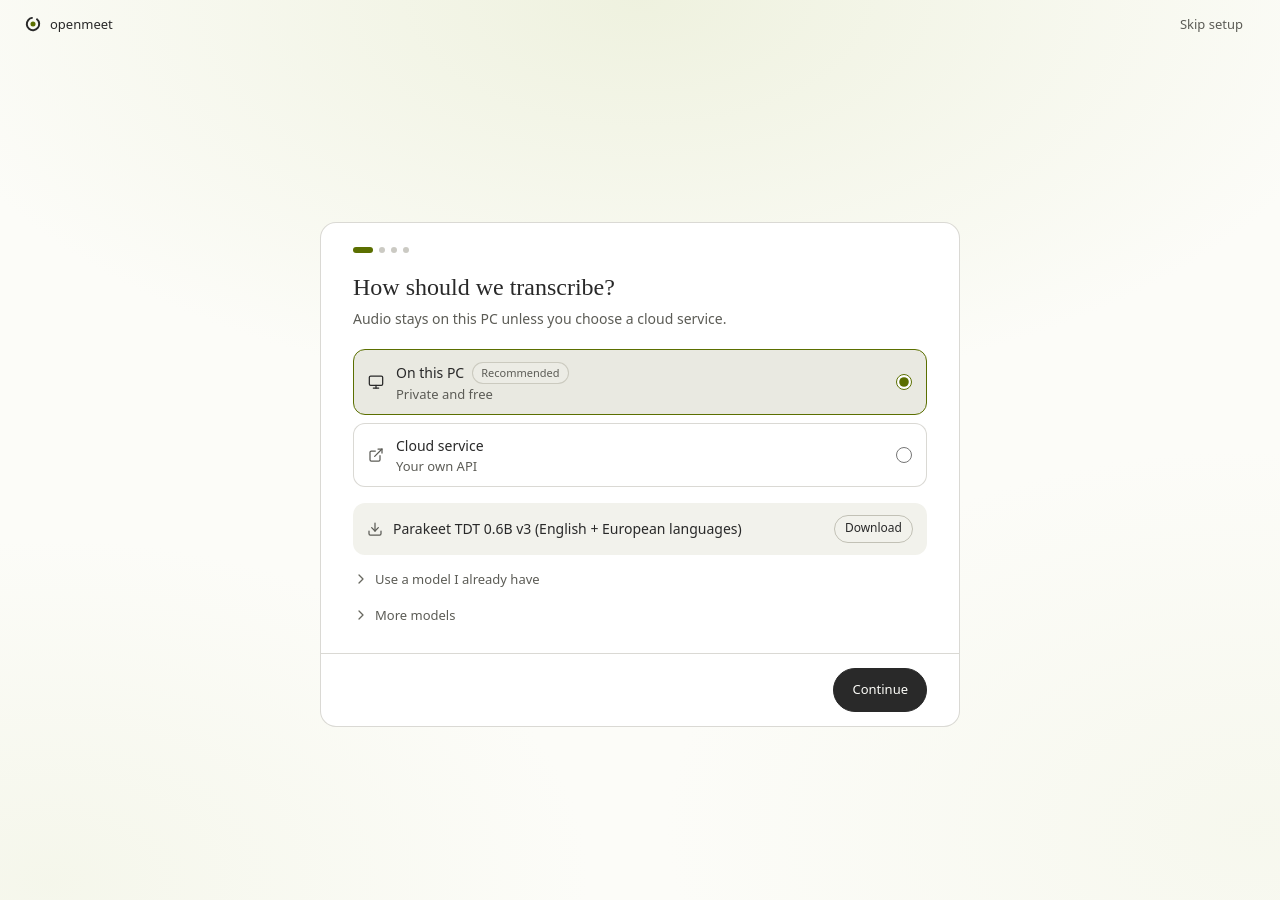
it: offers managed Local AI rather than a detected server as the default notes path
The width and height of the screenshot is (1280, 900).
Expected: the heading "How should we transcribe?" is shown, [353,274,615,300]
Click the button "Continue".
click(880, 690)  # box [833,668,927,712]
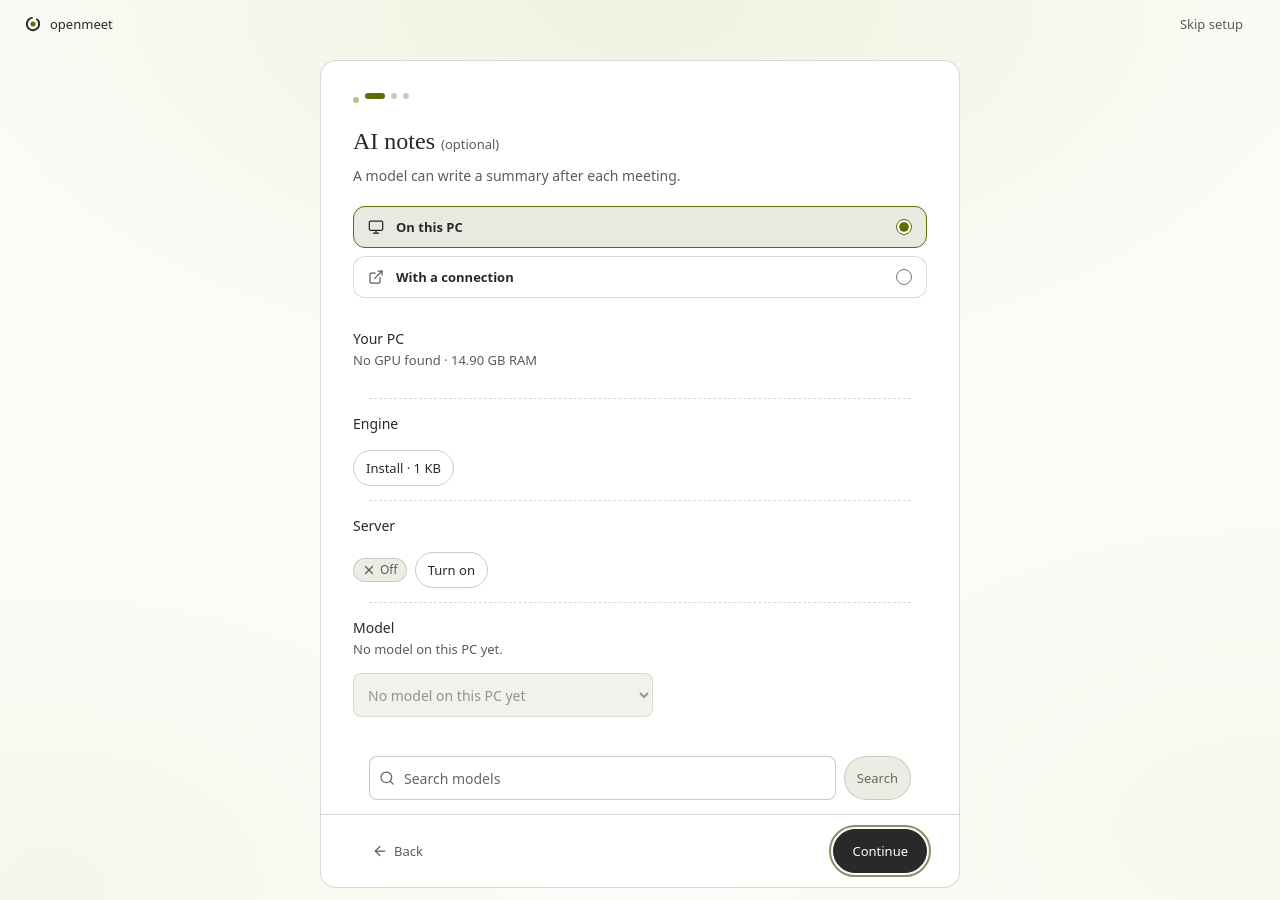
Now the heading "AI notes (optional)" is shown, box [353,128,499,154]
Now the radio button labelled "On this PC" is checked, box [896,219,912,235]
Now the radio button labelled "With a connection" is shown, box [896,269,912,285]
